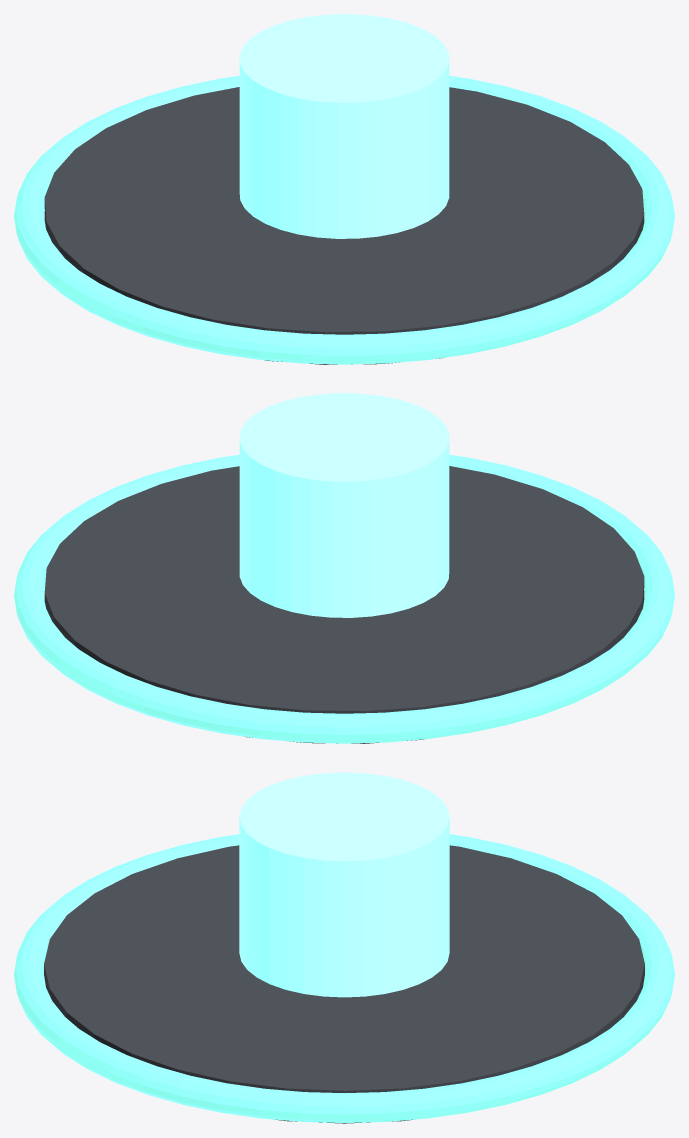
Rendered from channel_siem.glb.
3 views of the same model, one above another, from view 1: azimuth 30°, elevation 25°; view 2: azimuth 150°, elevation 25°; view 3: azimuth 270°, elevation 25° (orthographic).
Visible parts, largest first — view 1: siem_base, siem_emblem, siem_glow; view 2: siem_base, siem_emblem, siem_glow; view 3: siem_base, siem_emblem, siem_glow.
Boxes of the visible parts, bbox=[...] form: siem_base: bbox=[44, 87, 644, 364]; siem_emblem: bbox=[239, 14, 449, 238]; siem_glow: bbox=[14, 76, 674, 364]; siem_base: bbox=[44, 466, 644, 743]; siem_emblem: bbox=[239, 393, 449, 617]; siem_glow: bbox=[14, 455, 674, 743]; siem_base: bbox=[44, 845, 644, 1123]; siem_emblem: bbox=[239, 772, 449, 997]; siem_glow: bbox=[14, 834, 674, 1122].
Bounding box in the file's own units: 2.2 × 0.66 × 2.2.
